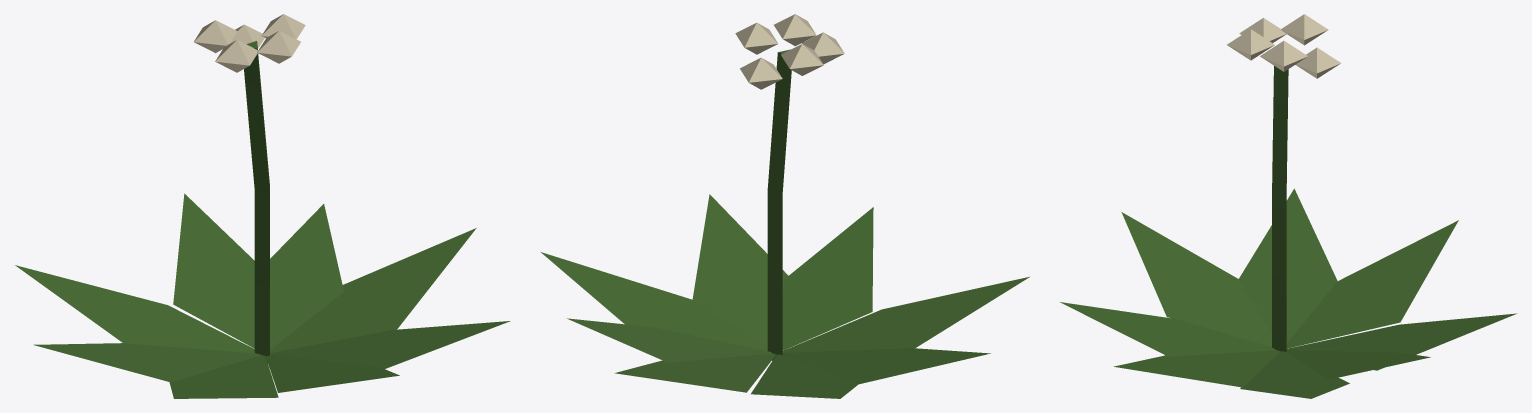
File: Herb.fbx
The picture shows the model from 3 angles, left to right: view 1: azimuth 30°, elevation 25°; view 2: azimuth 150°, elevation 25°; view 3: azimuth 270°, elevation 25°; orthographic projection. The views are drawn at different scales.
Visible parts, largest first — view 1: Herb; view 2: Herb; view 3: Herb.
Boxes of the visible parts, <box> form: Herb: <box>15,14,510,398</box>; Herb: <box>541,14,1029,398</box>; Herb: <box>1060,14,1517,398</box>.
Bounding box in the file's own units: 0.7163 × 0.5172 × 0.6594.
